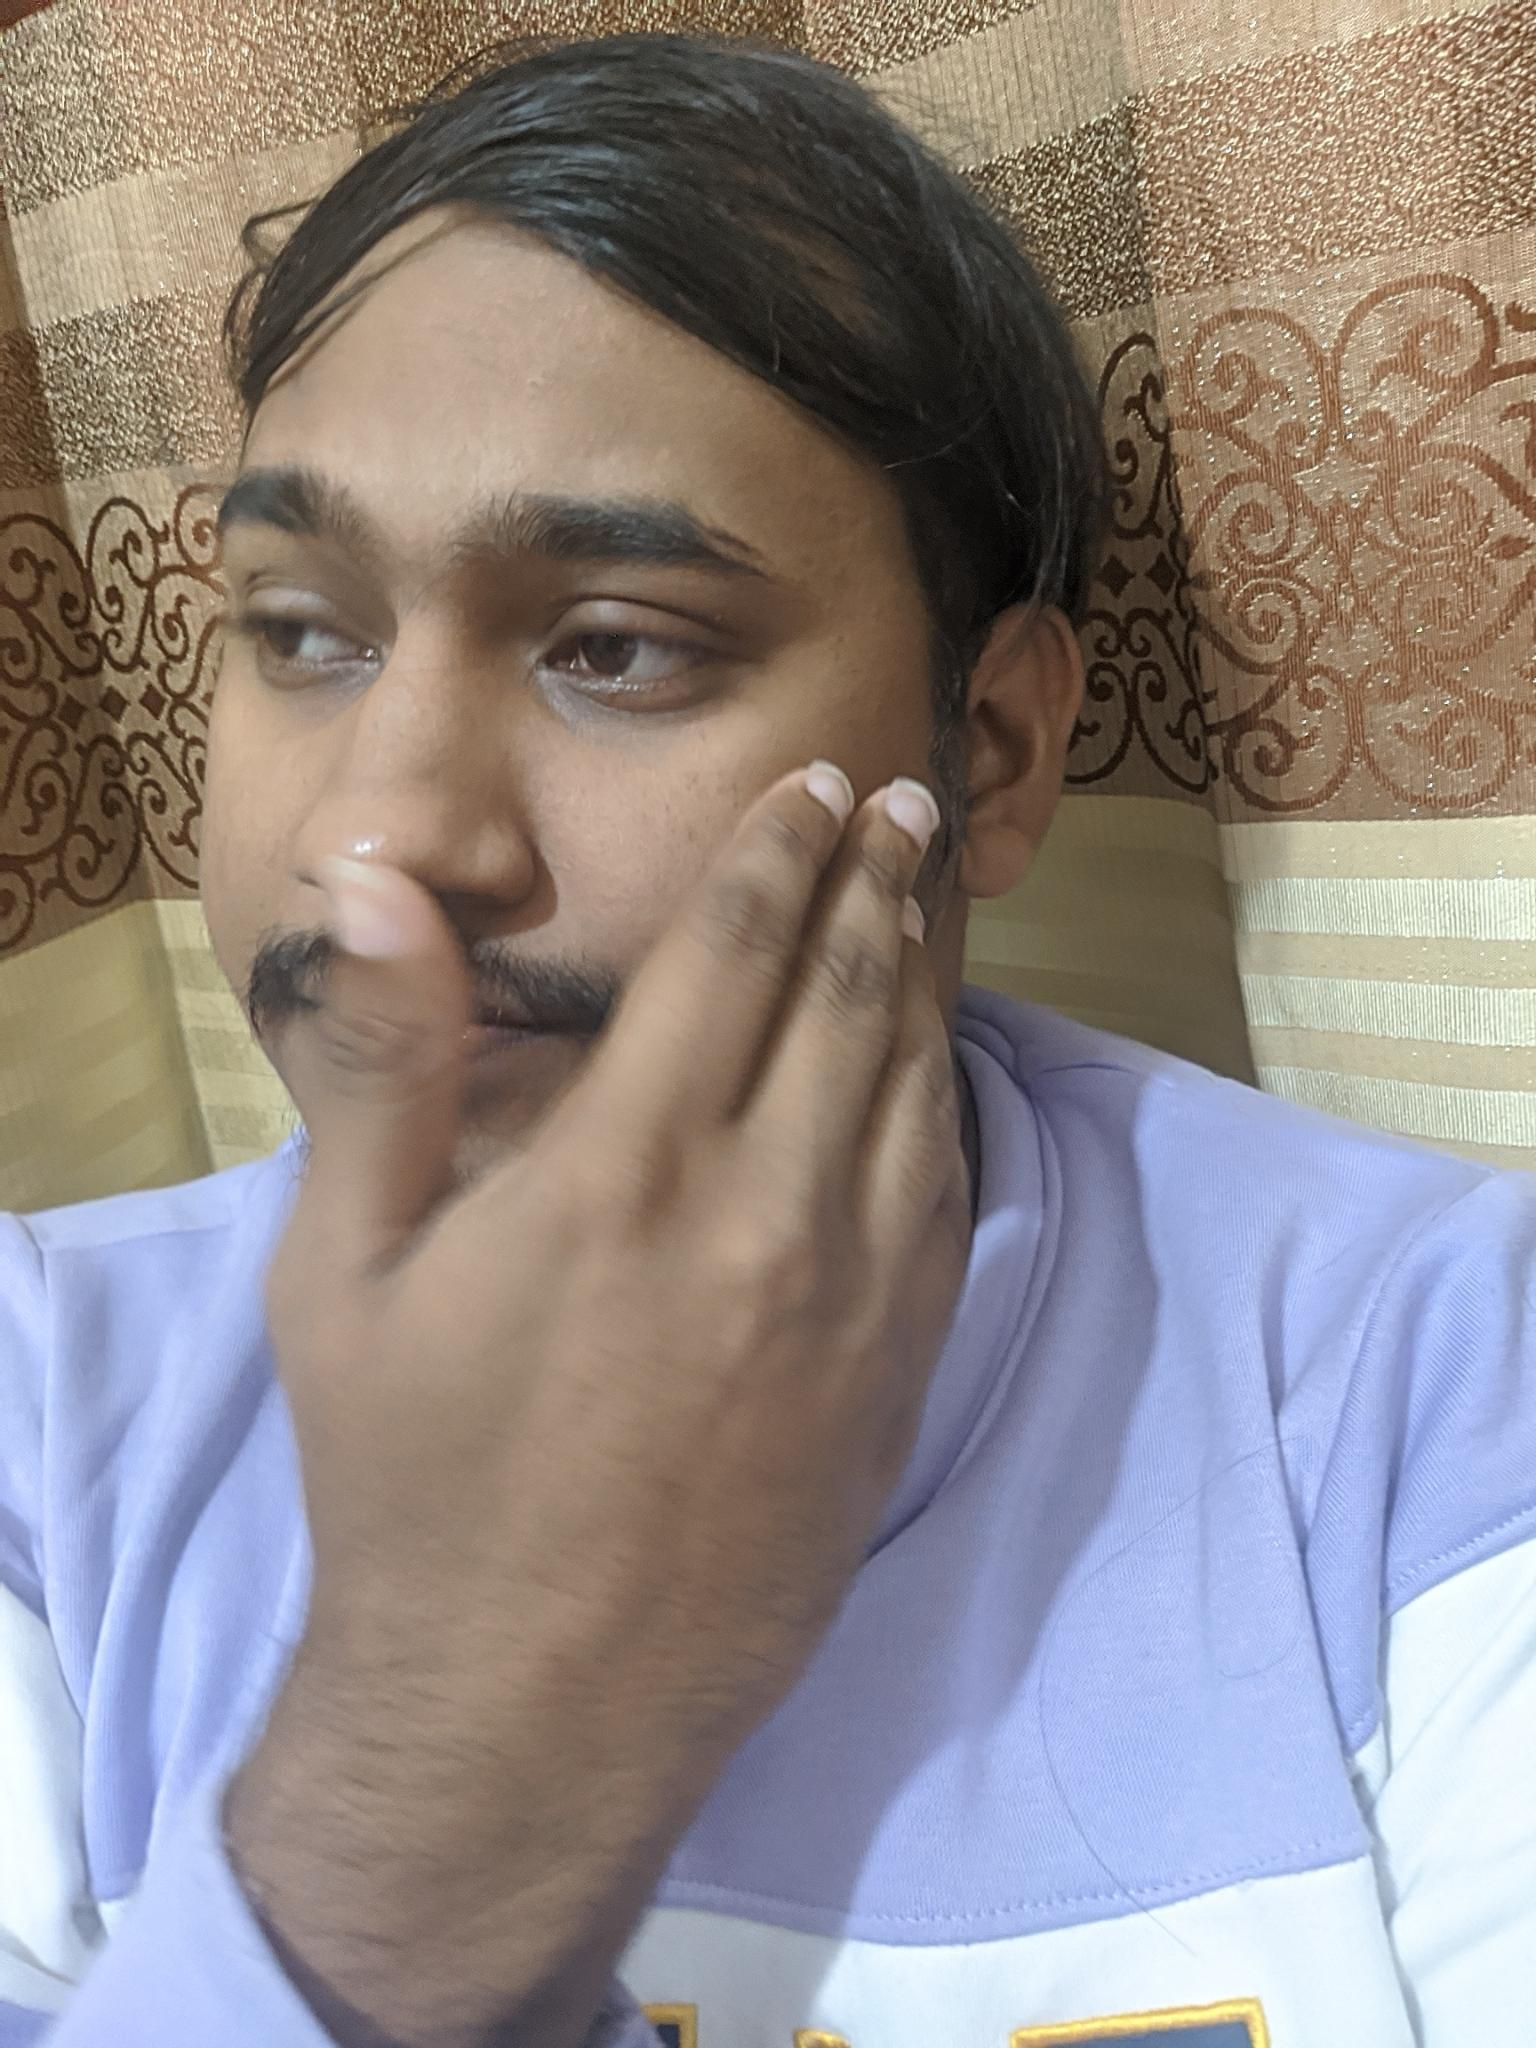Neutral: (184, 405, 839, 1172)
